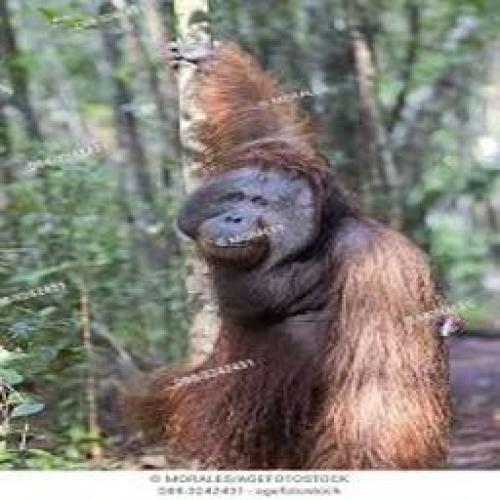orangutan-endangered: (116, 44, 450, 464)
